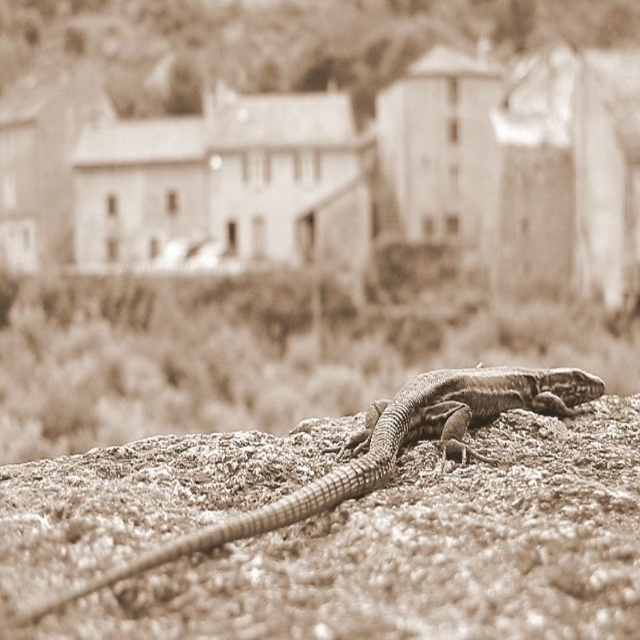Lizard: (70, 356, 610, 585)
